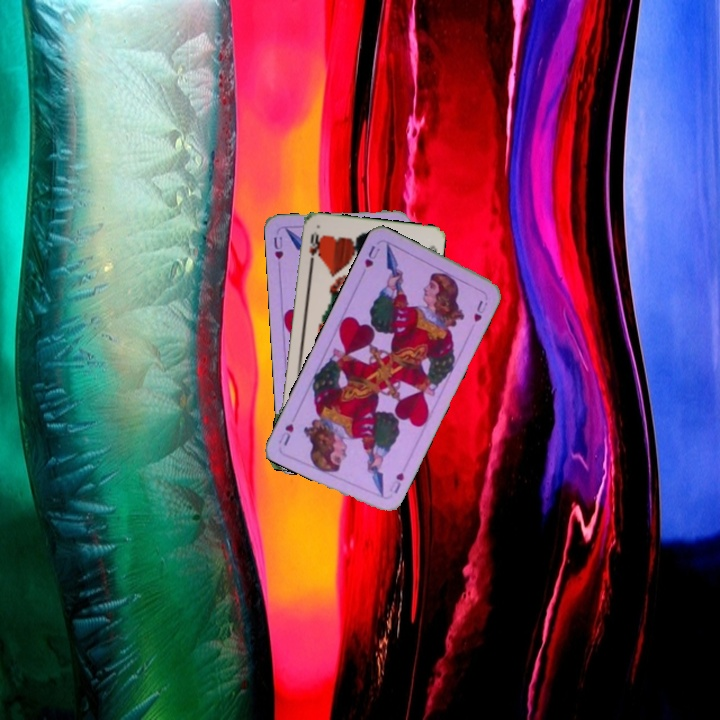HO: (305, 228, 320, 267)
HU: (360, 241, 383, 270), (385, 468, 407, 496), (270, 232, 286, 262)
